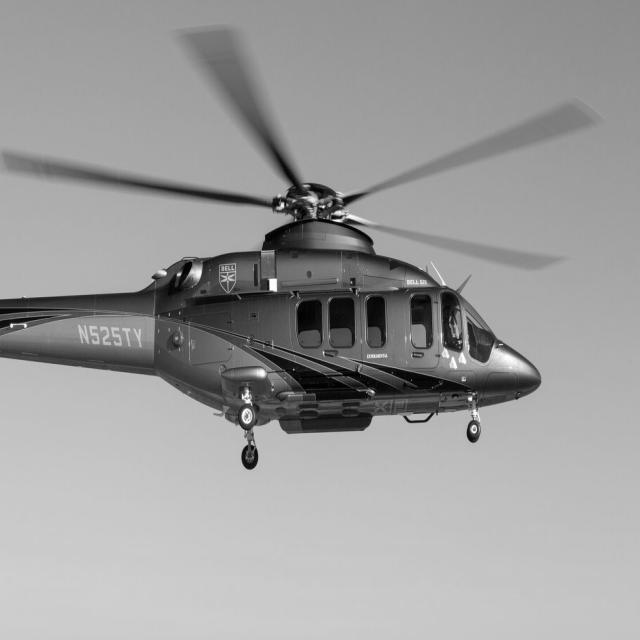helicopter: (1, 19, 610, 469)
